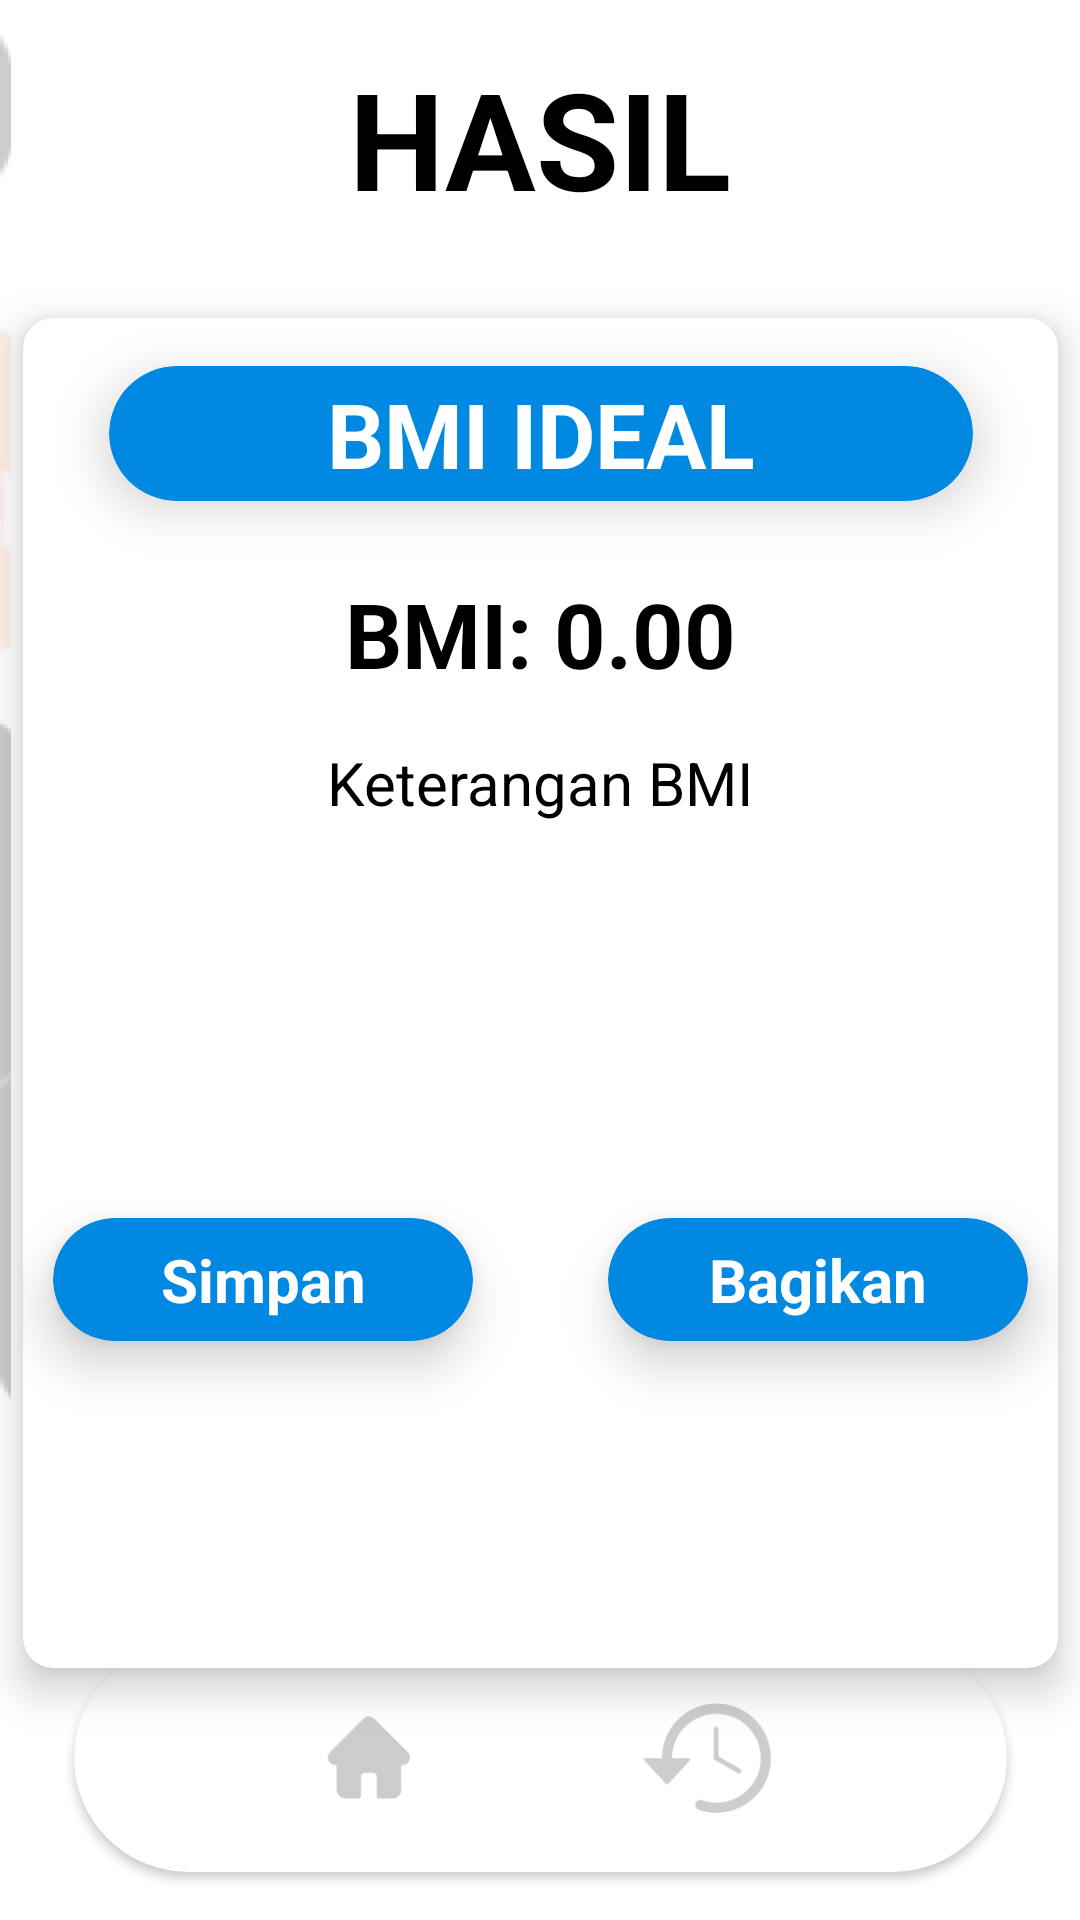

Screen size 1080×1920. Icon name, then its box in pixels as (x1=x1, y1=y1, x2=x2, y2=y2):
Home: (x1=328, y1=1716, x2=410, y2=1799)
